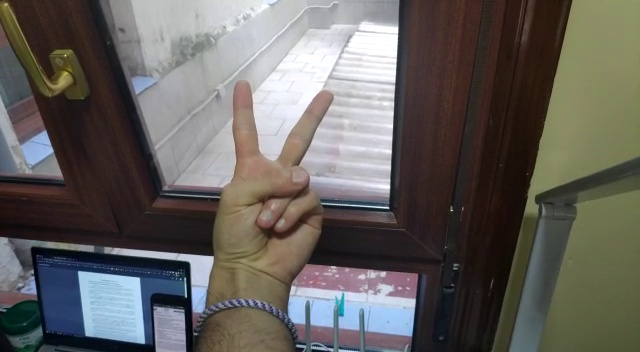Peace: (200, 75, 337, 267)
